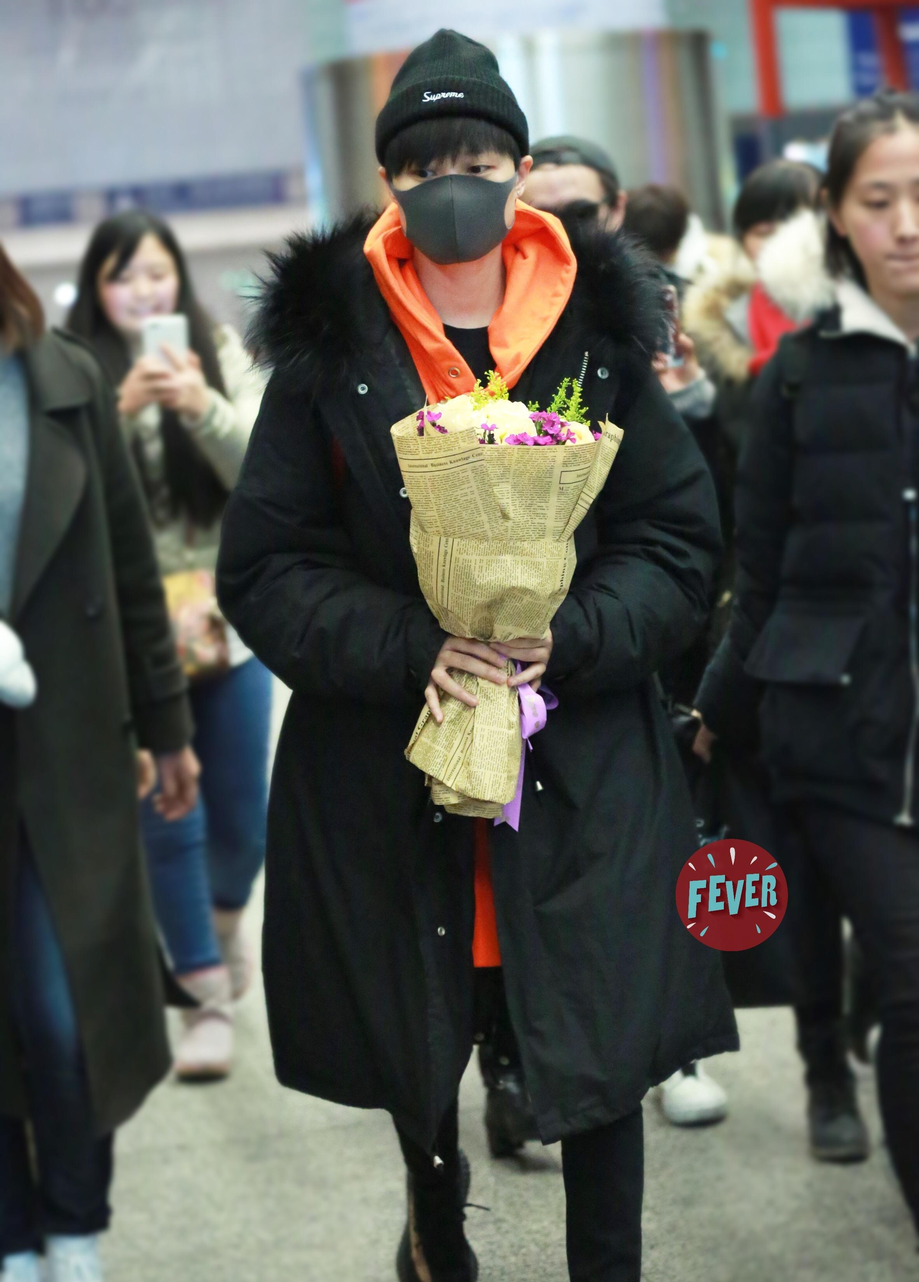NONE: (848, 171, 919, 296), (107, 259, 176, 332)
OK: (383, 130, 522, 269)
